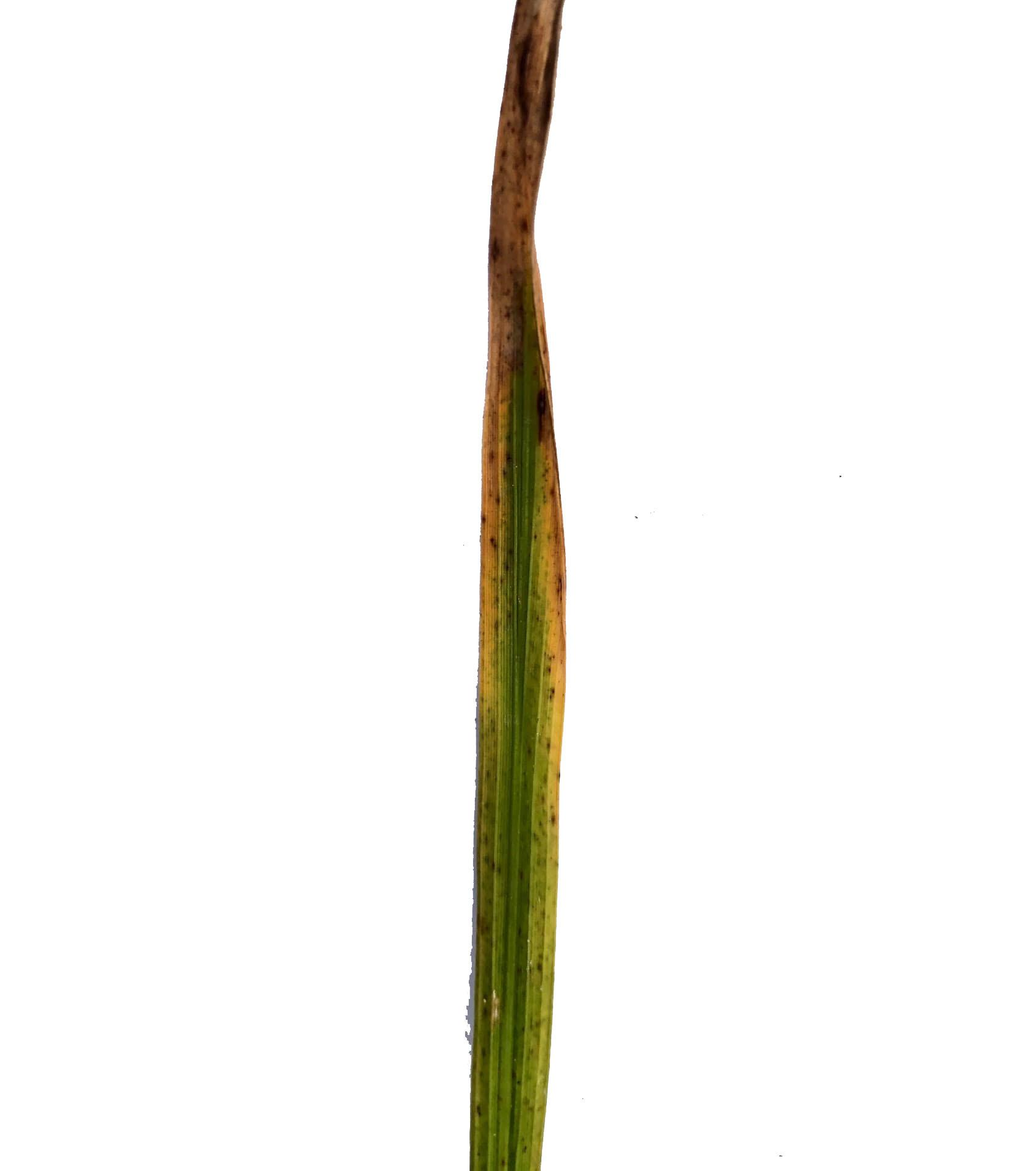Tungro: (468, 0, 569, 1171)
